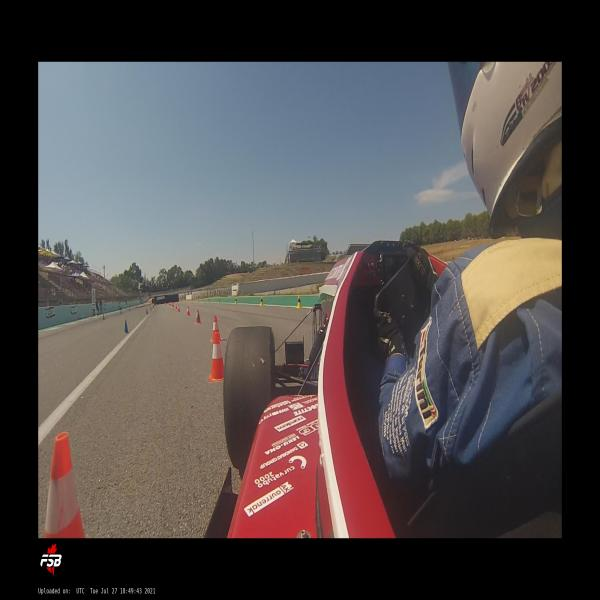orange_cone: (44, 432, 86, 538), (207, 332, 224, 382), (210, 316, 223, 342), (195, 310, 202, 324), (187, 306, 190, 316), (178, 304, 180, 312), (175, 304, 177, 309)
unknown_cone: (124, 320, 129, 334), (103, 314, 105, 320), (146, 308, 148, 314)
yellow_cone: (296, 295, 302, 308), (260, 296, 264, 306), (234, 296, 238, 305), (218, 298, 220, 304), (208, 298, 210, 303)
